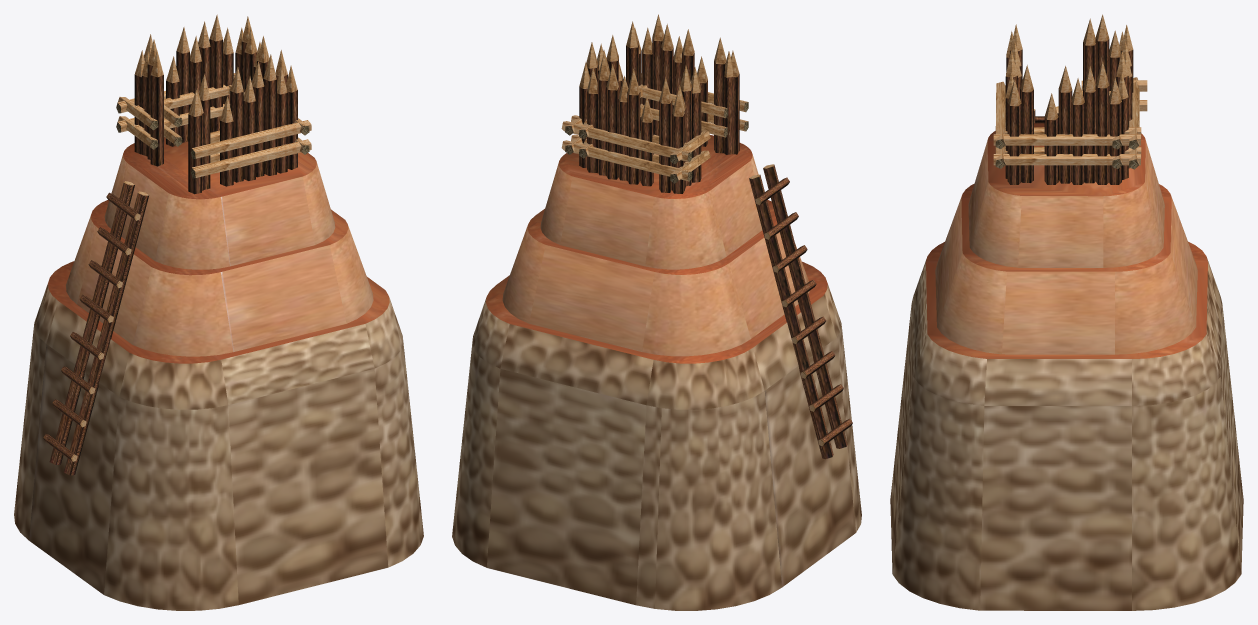
File: defense_tower.dae
The picture shows the model from 3 angles, left to right: view 1: azimuth 30°, elevation 25°; view 2: azimuth 150°, elevation 25°; view 3: azimuth 270°, elevation 25°; orthographic projection.
Visible parts, largest first — view 1: defense_tower; view 2: defense_tower; view 3: defense_tower.
Part boxes in pixels (x1,y1,x2,y2): defense_tower: (14,14,423,610); defense_tower: (452,14,861,610); defense_tower: (890,14,1243,610).
Size of the model in its own units: 11.91 by 10.82 by 16.74.
